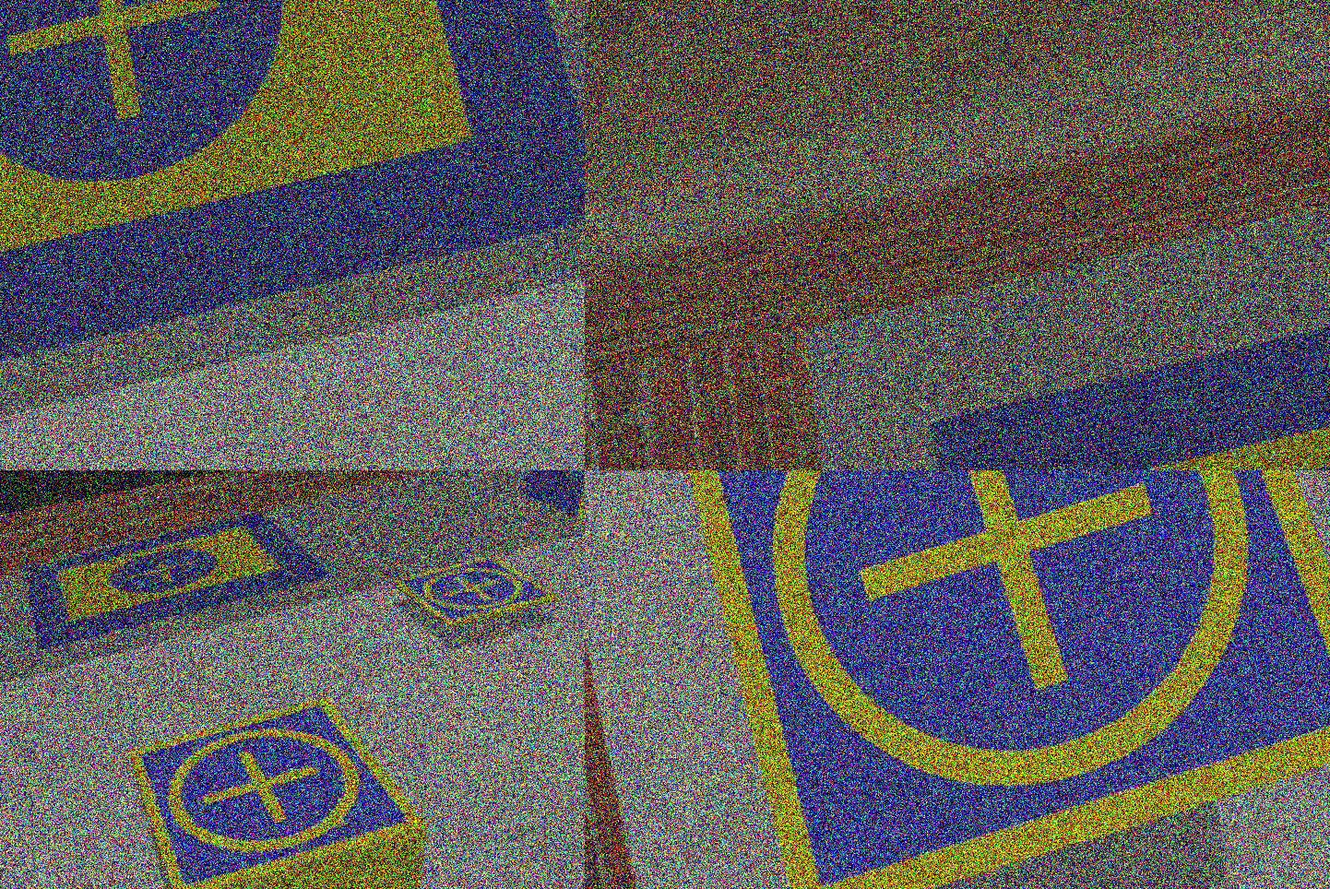large_base: (1, 1, 585, 417), (919, 243, 1330, 471), (20, 499, 338, 646)
small_base: (650, 471, 1330, 889), (125, 683, 433, 889), (394, 543, 558, 638)
